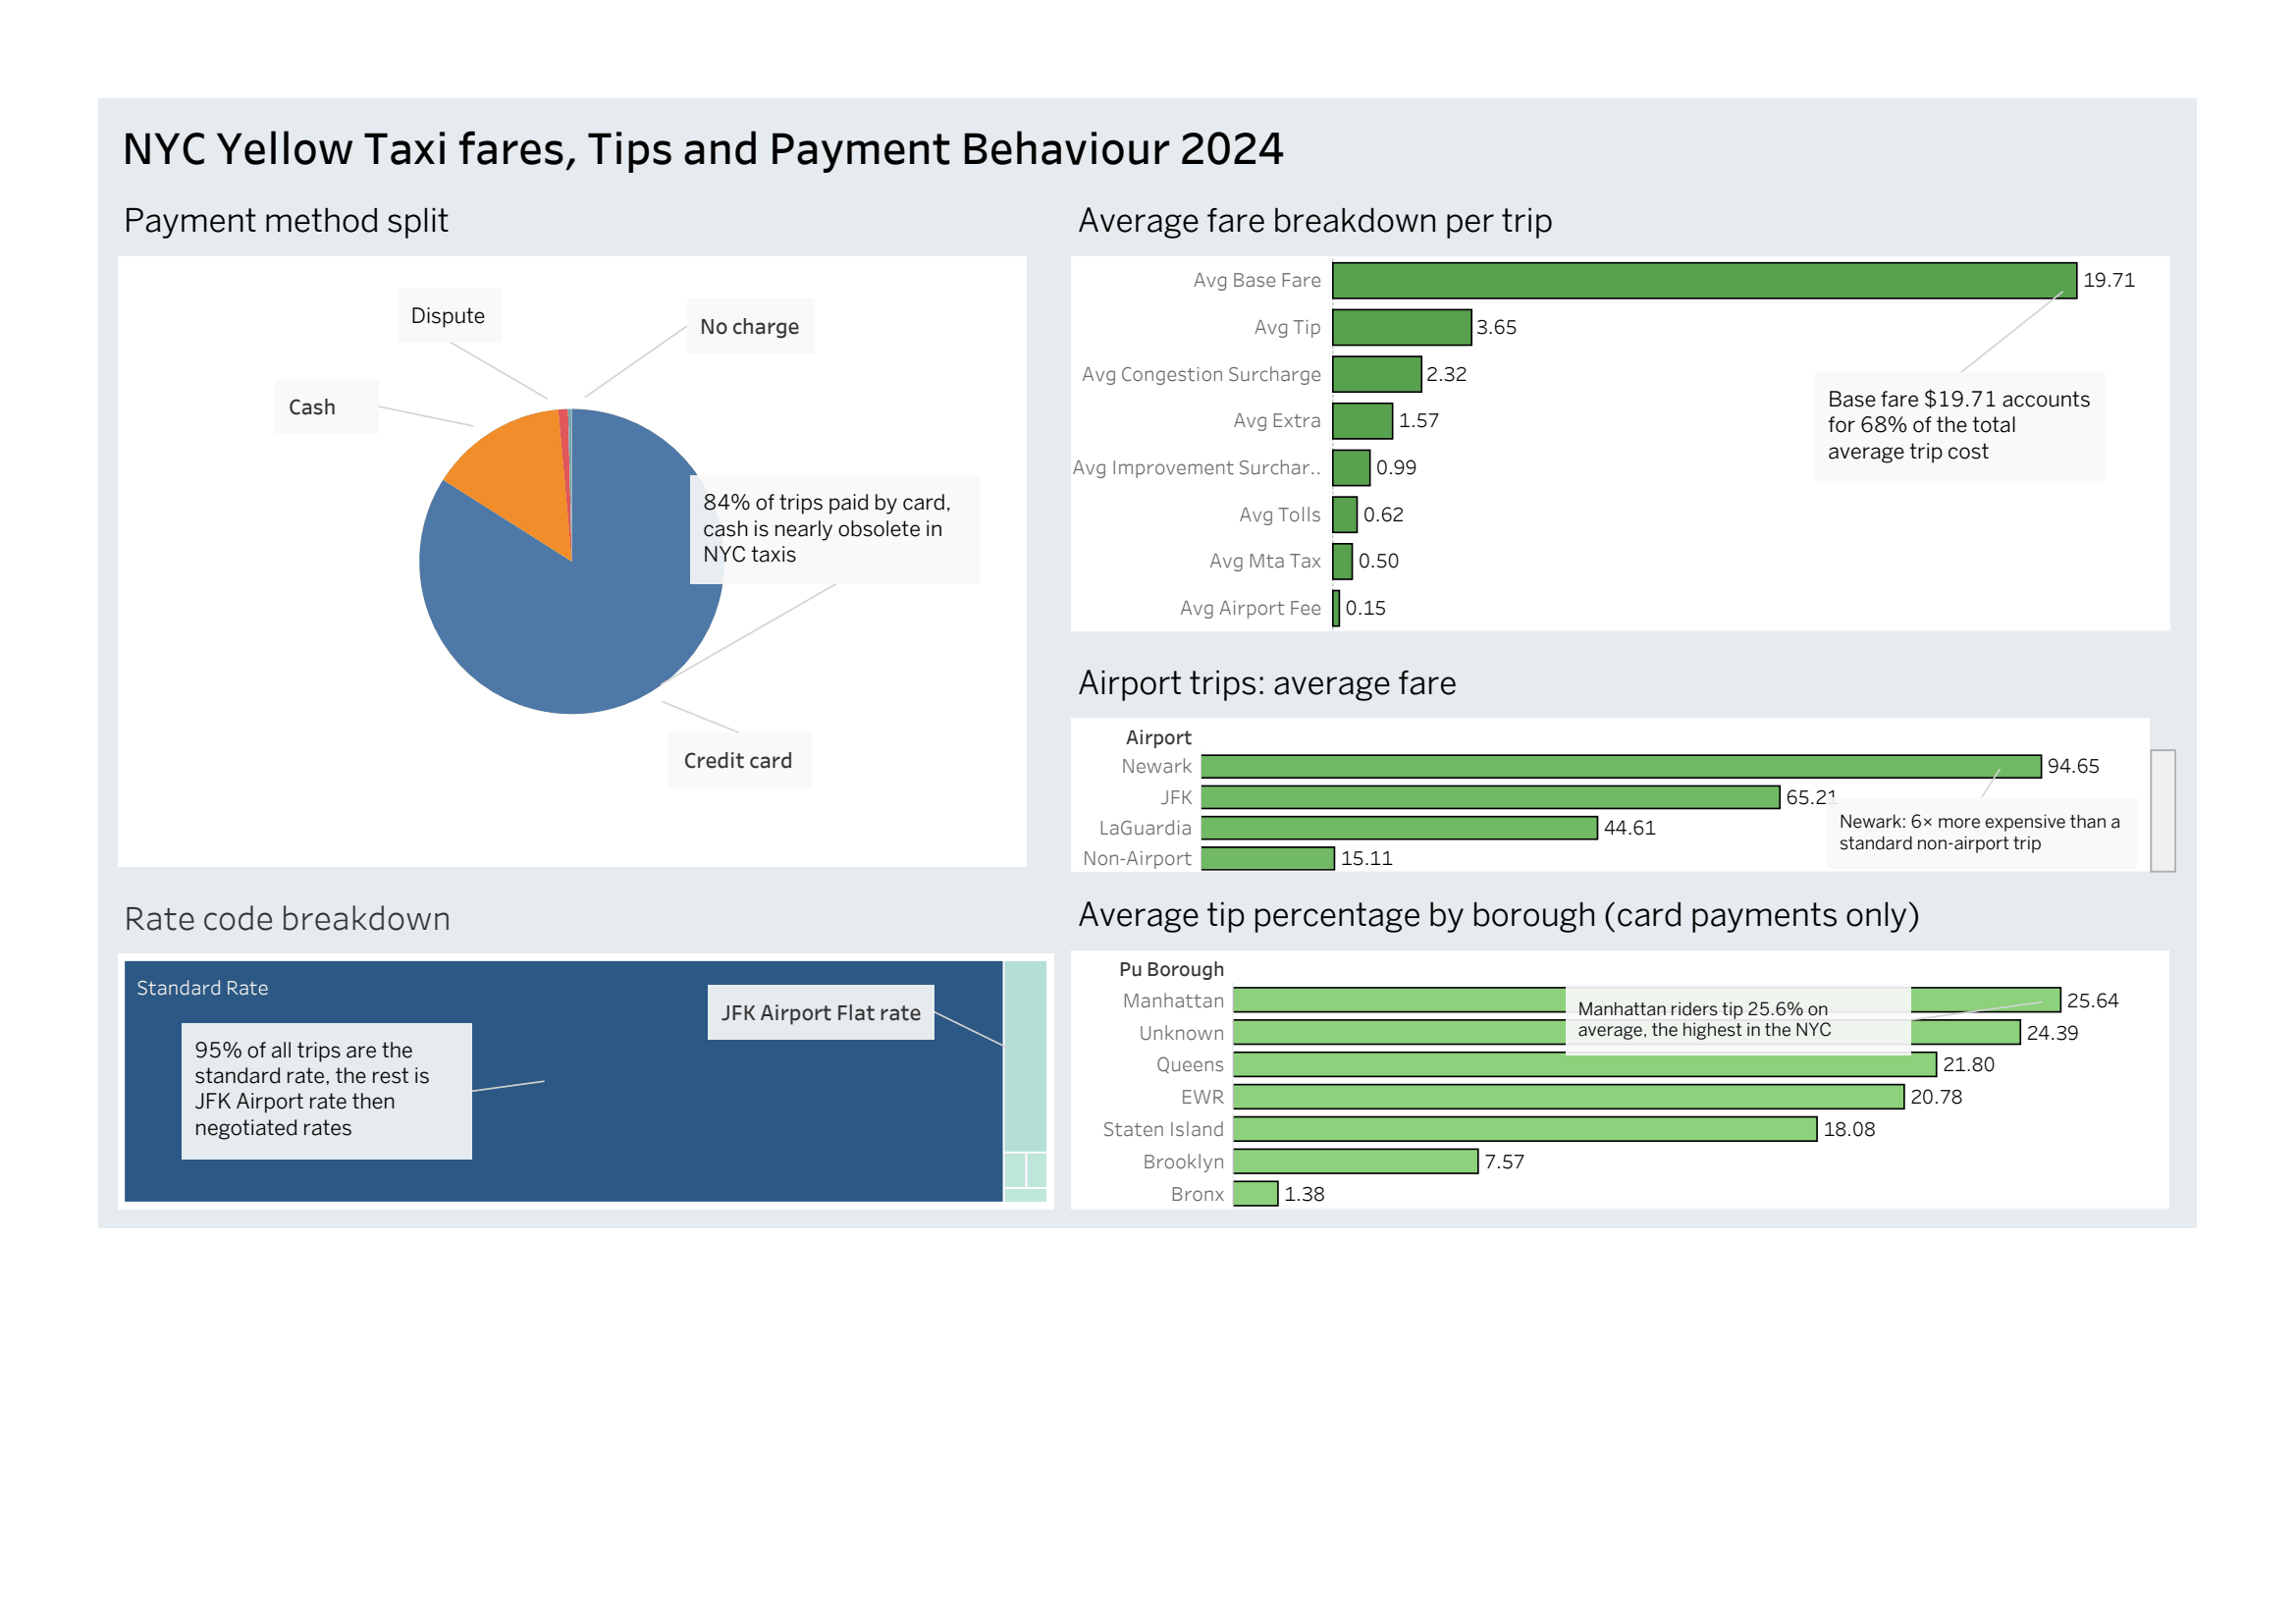

What the dashboard file says about the page in this screenshot:
{"tool":"tableau","page":{"name":"Fares, tips payment","canvas":[1300,700],"ordinal":1},"visuals":[{"type":"title","box":[8,8,1284,45]},{"type":"worksheet","title":"Payment types","mark":"Pie","box":[8,53,591.1,430.3]},{"type":"worksheet","title":"Fare components","mark":"Automatic","rows":["Pivot Field Names"],"cols":["Pivot Field Values"],"box":[599.1,53,692.9,286.2]},{"type":"worksheet","title":"Airport trips","mark":"Automatic","rows":["airport"],"cols":["avg_fare"],"box":[599.1,339.2,692.9,144.1]},{"type":"worksheet","title":"Rate code breakdown","mark":"Automatic","box":[8,483.3,591.1,208.7]},{"type":"worksheet","title":"Tip analysis","mark":"Bar","rows":["pu_borough"],"cols":["avg_tip_pct"],"box":[599.1,483.3,692.9,208.7]}]}

Visuals, with their boxes on the page's 1300x700 design canvas (x1, y1, x2, y2). These are canvas units, not pixel positions in the 2296x1623 screenshot, which may show the page scaled, cropped or inside an application window:
title: (8, 8, 1292, 53)
"Payment types" worksheet (Pie marks): (8, 53, 599, 483)
"Fare components" worksheet: (599, 53, 1292, 339)
"Airport trips" worksheet: (599, 339, 1292, 483)
"Rate code breakdown" worksheet: (8, 483, 599, 692)
"Tip analysis" worksheet (Bar marks): (599, 483, 1292, 692)
